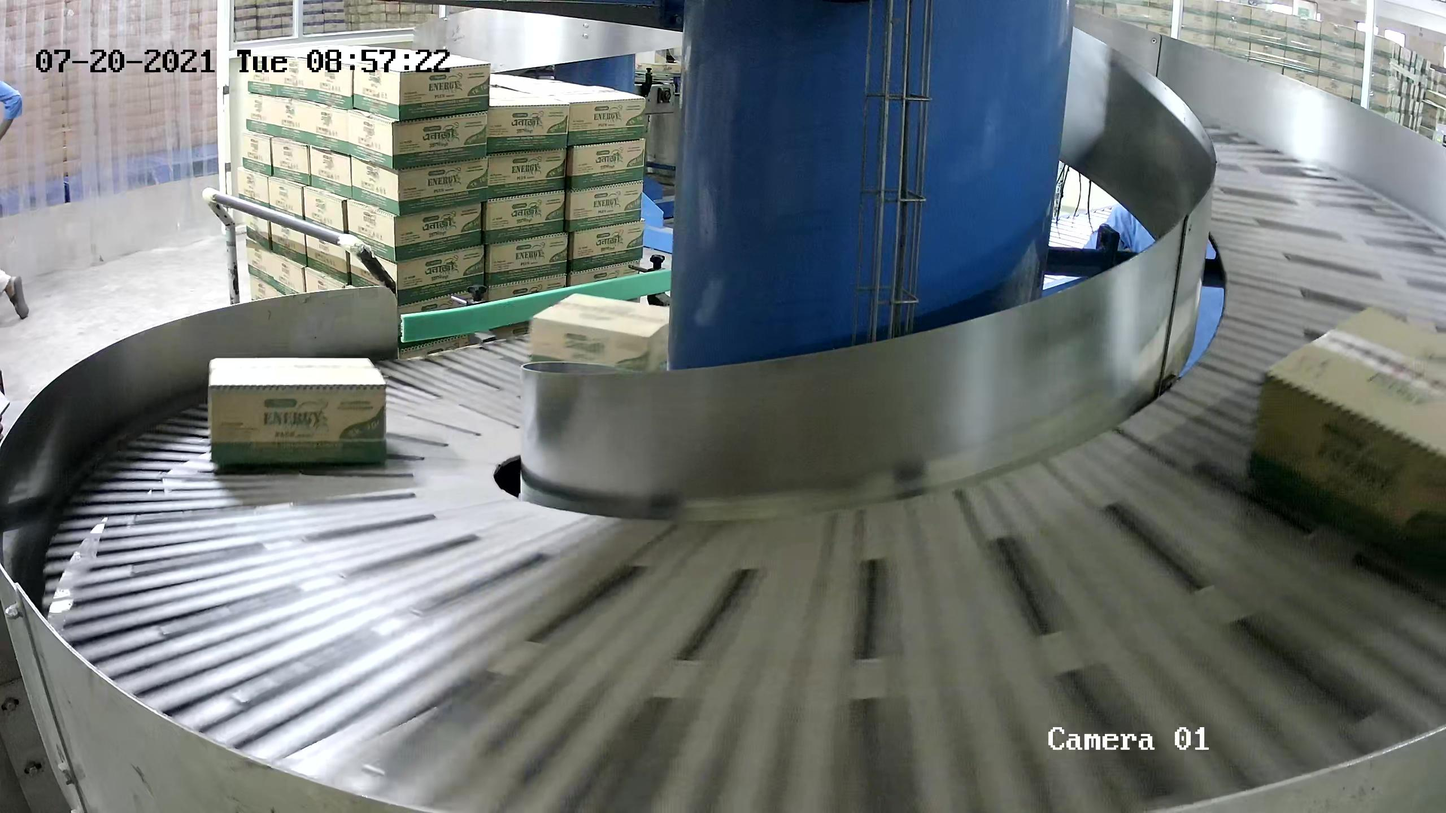Box: (1249, 302, 1446, 577), (208, 356, 388, 465), (530, 292, 670, 375)
